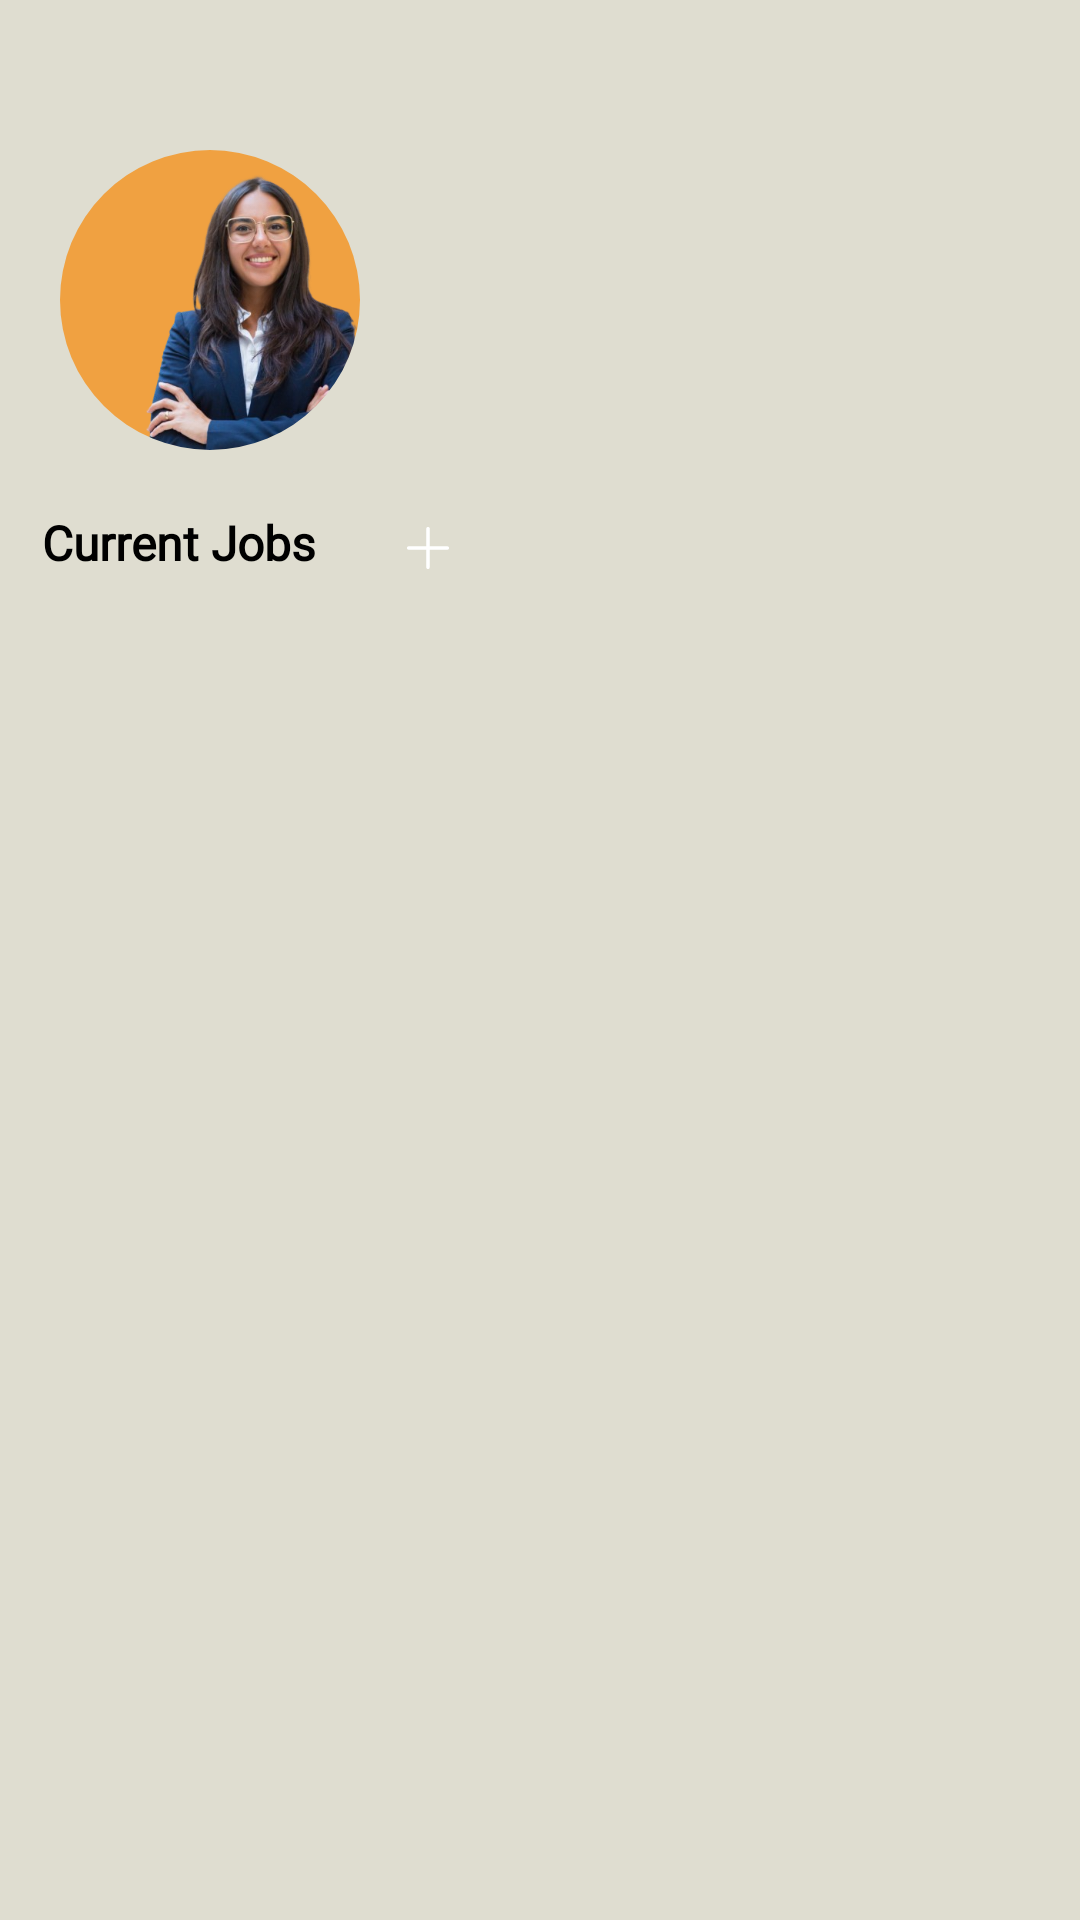

Where icons sit on this 1080 x 1920 app screen, as (x1, y1, x2, y2):
employer: (60, 150, 360, 450)
plus: (407, 527, 449, 569)
